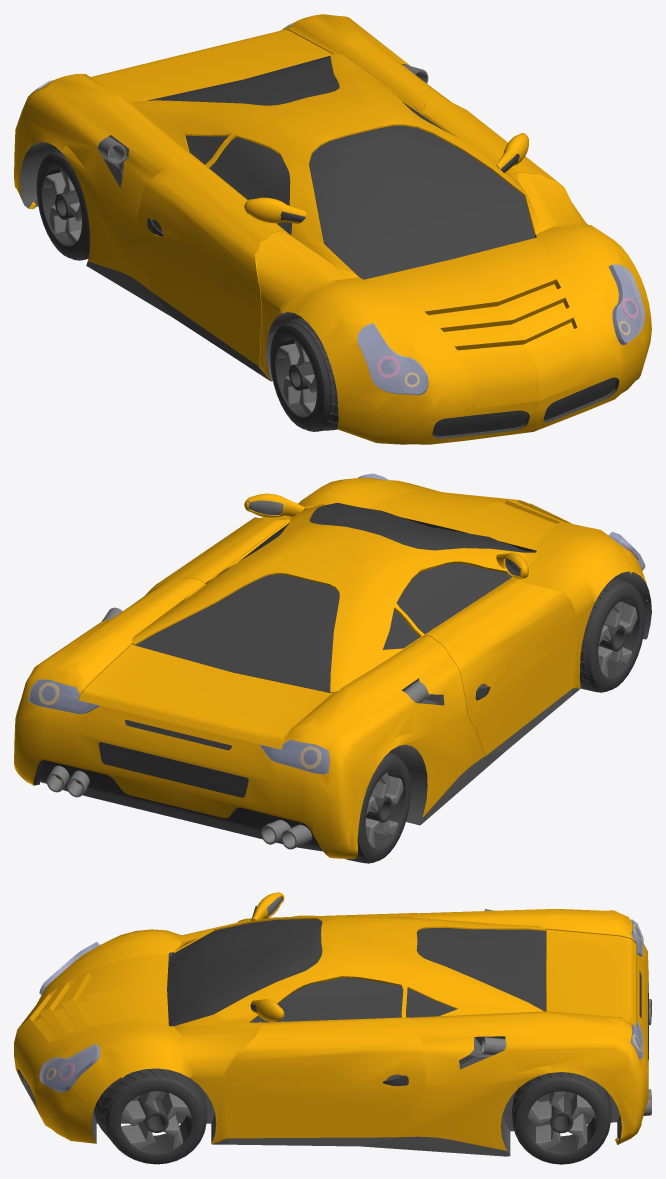
Rendered from lv2_car_red.fbx.
3 views of the same model, one above another, from view 1: azimuth 30°, elevation 25°; view 2: azimuth 150°, elevation 25°; view 3: azimuth 270°, elevation 25° (orthographic). The views are drawn at different scales.
Visible parts, largest first — view 1: lv2_car_yellow, lv2_car_wheel_3_yellow, lv2_car_red, lv2_car_wheel_4_yellow; view 2: lv2_car_yellow, lv2_car_wheel_3_yellow, lv2_car_wheel_4_yellow, lv2_car_red; view 3: lv2_car_yellow, lv2_car_wheel_1_yellow, lv2_car_wheel_2_yellow, lv2_car_red.
Part boxes in pixels (box(x1,y1,x2,y2)): lv2_car_yellow: box(14, 14, 651, 444); lv2_car_wheel_3_yellow: box(270, 317, 338, 431); lv2_car_red: box(33, 23, 644, 394); lv2_car_wheel_4_yellow: box(36, 149, 90, 260); lv2_car_yellow: box(14, 473, 651, 858); lv2_car_wheel_3_yellow: box(579, 576, 645, 692); lv2_car_wheel_4_yellow: box(346, 752, 410, 863); lv2_car_red: box(28, 473, 644, 773); lv2_car_yellow: box(14, 892, 651, 1156); lv2_car_wheel_1_yellow: box(94, 1068, 207, 1164); lv2_car_wheel_2_yellow: box(511, 1072, 611, 1164); lv2_car_red: box(39, 920, 643, 1091).
Size of the model in its own units: 384 by 207 by 724.
